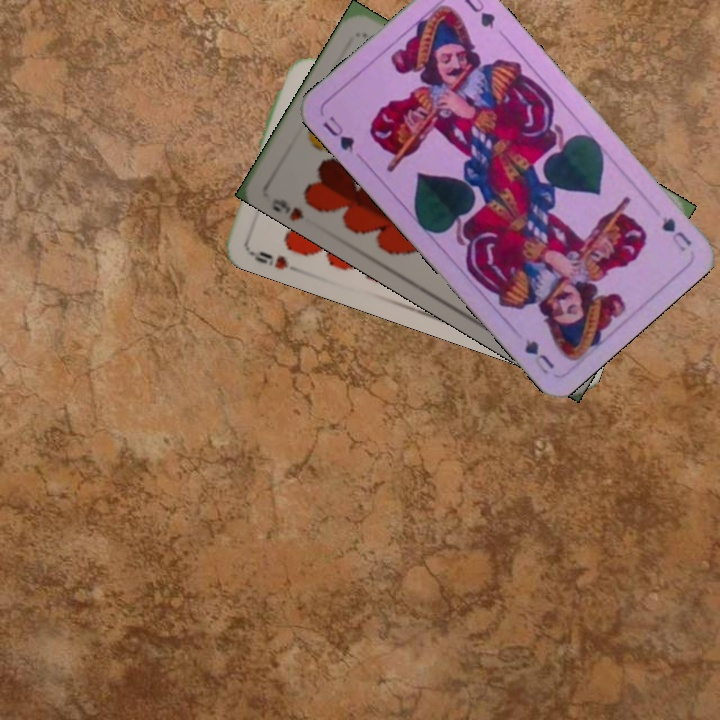GU: (318, 111, 357, 156), (657, 212, 694, 255)
H9: (267, 194, 306, 223), (246, 247, 291, 272)
